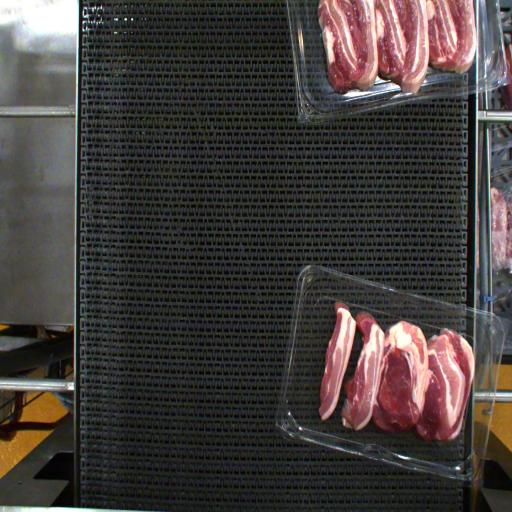loose-meat: (311, 299, 361, 426)
